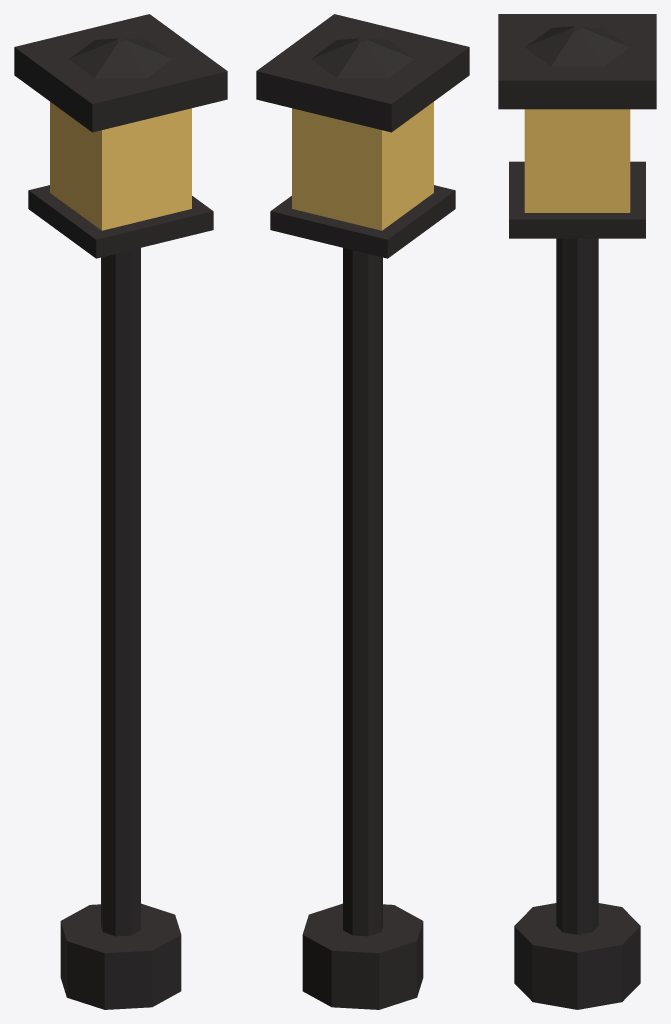
Rendered from LobbyLamp.fbx.
The picture shows the model from 3 angles, left to right: view 1: azimuth 30°, elevation 25°; view 2: azimuth 150°, elevation 25°; view 3: azimuth 270°, elevation 25°; orthographic projection.
Parts seen in each view (by area): view 1: LobbyLamp; view 2: LobbyLamp; view 3: LobbyLamp.
Part boxes in pixels (x1=…): LobbyLamp: x1=14, y1=14, x2=227, y2=1009; LobbyLamp: x1=256, y1=14, x2=469, y2=1009; LobbyLamp: x1=498, y1=14, x2=656, y2=1009.
Size of the model in its own units: 1.5 by 10 by 1.5.
